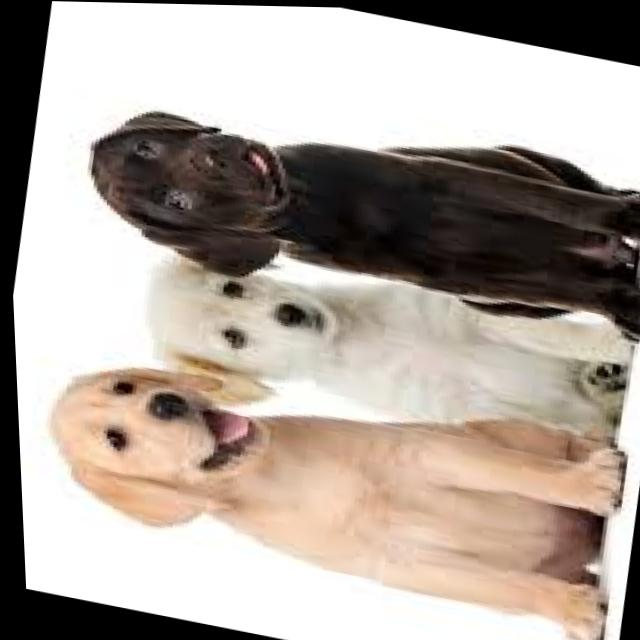Abrador: (17, 336, 632, 640), (69, 65, 640, 352), (129, 233, 640, 476)
